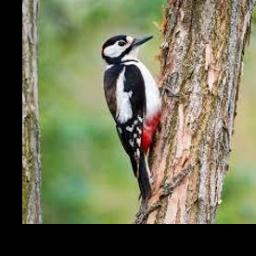Woodpecker: (101, 36, 162, 202)
